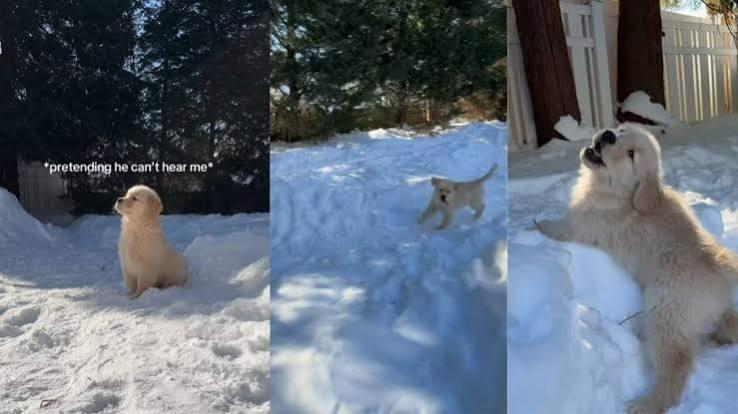puppy-dog: (533, 122, 738, 414), (113, 184, 188, 300), (417, 162, 498, 233)
